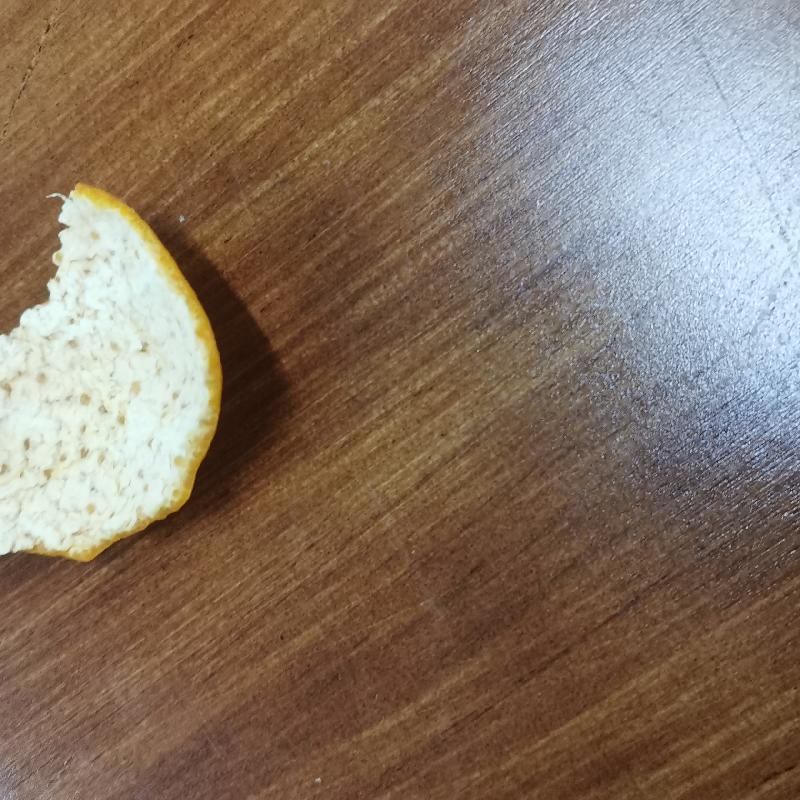orange: (1, 179, 227, 569)
